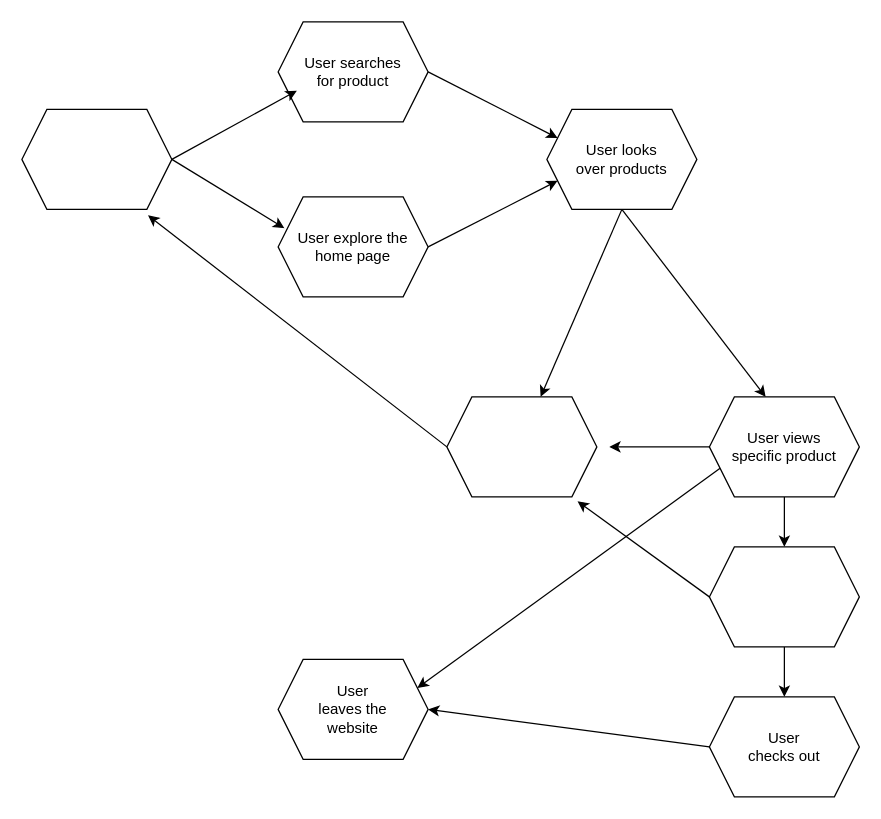
The diagram is 881 pixels wide and 819 high, and some of its shapes have lost their labels. The box of each missing label's shape, as (x1, y1, x2, y2) in pixels:
User adds item to cart: (708, 546, 859, 647)
User continues shopping: (446, 396, 597, 497)
User enters website: (21, 108, 172, 209)
